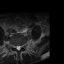CCS_normal: (17, 44, 19, 52)
LFS_normal: (20, 43, 23, 49)
LLS_normal: (19, 44, 20, 51)
RFS_normal: (13, 43, 15, 50)
RLS_normal: (15, 44, 17, 51)
